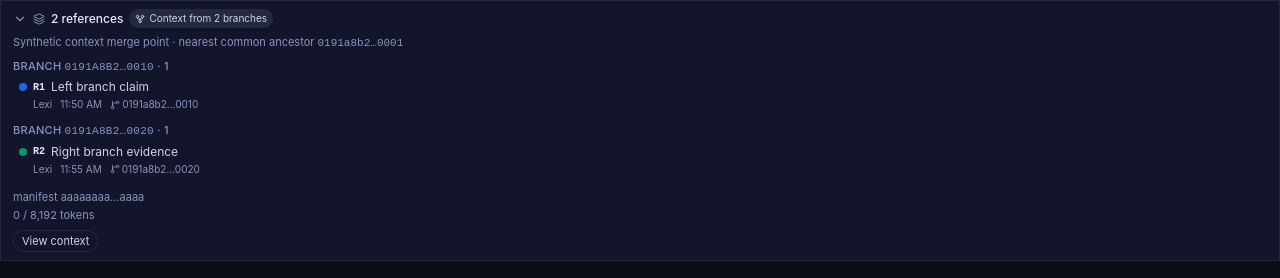
Test: ReferenceInspectorPanel — View context › survives a failed read without taking the panel down
The width and height of the screenshot is (1280, 278).
Click the button with test id "reference-view-context" at {"x": 56, "y": 241}, box [13,230,98,252]
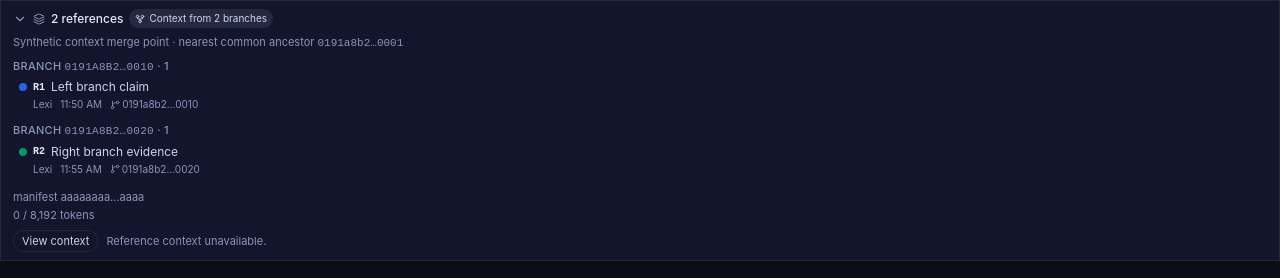
Expected: the text "Reference context unavailable." is shown, [106,232,266,249]
